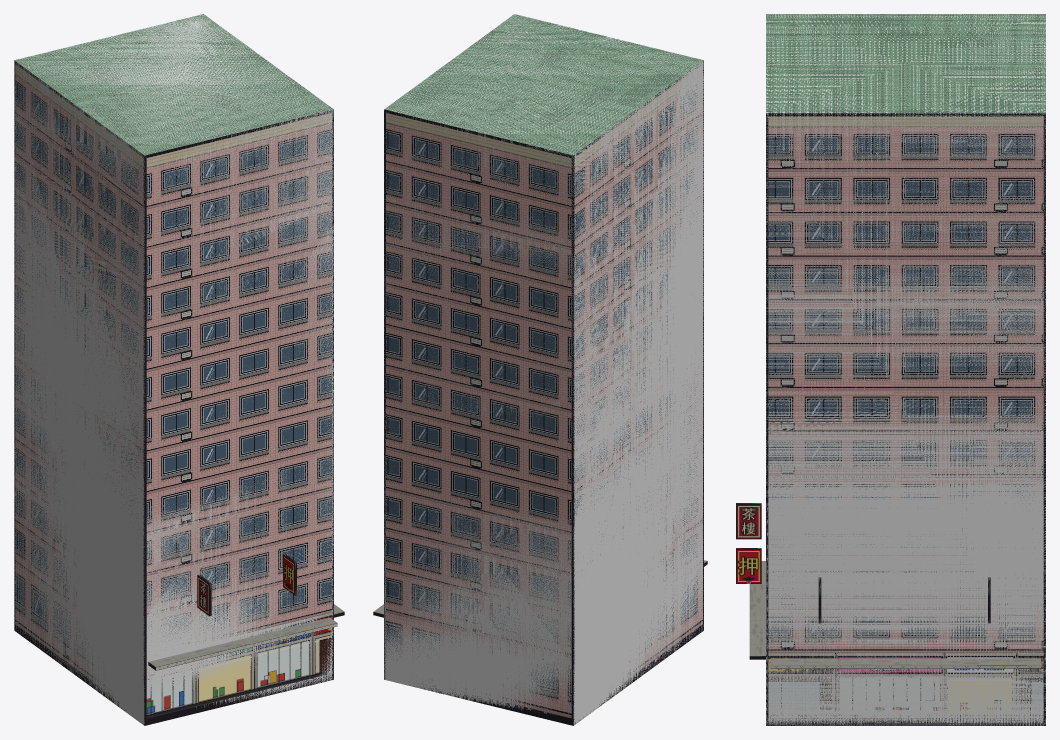
The picture shows the model from 3 angles, left to right: view 1: azimuth 30°, elevation 25°; view 2: azimuth 150°, elevation 25°; view 3: azimuth 270°, elevation 25°; orthographic projection. The views are drawn at different scales.
Parts seen in each view (by area): view 1: 19D-E25, COL_19D-E25_0; view 2: 19D-E25, COL_19D-E25_0; view 3: 19D-E25, COL_19D-E25_0.
Part boxes in pixels (box(x1,y1,x2,y2)): 19D-E25: box(14, 14, 344, 725); COL_19D-E25_0: box(14, 15, 333, 725); 19D-E25: box(373, 14, 707, 725); COL_19D-E25_0: box(384, 14, 703, 725); 19D-E25: box(736, 14, 1045, 725); COL_19D-E25_0: box(766, 14, 1045, 725).
Size of the model in its own units: 16.45 by 42 by 19.25.
1 material, 1 textured.
